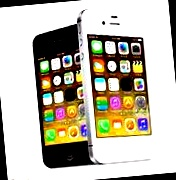iphone: (77, 0, 158, 161)
